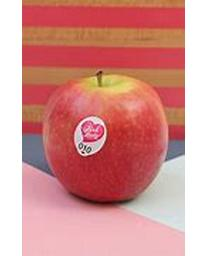apple: (41, 70, 168, 203)
